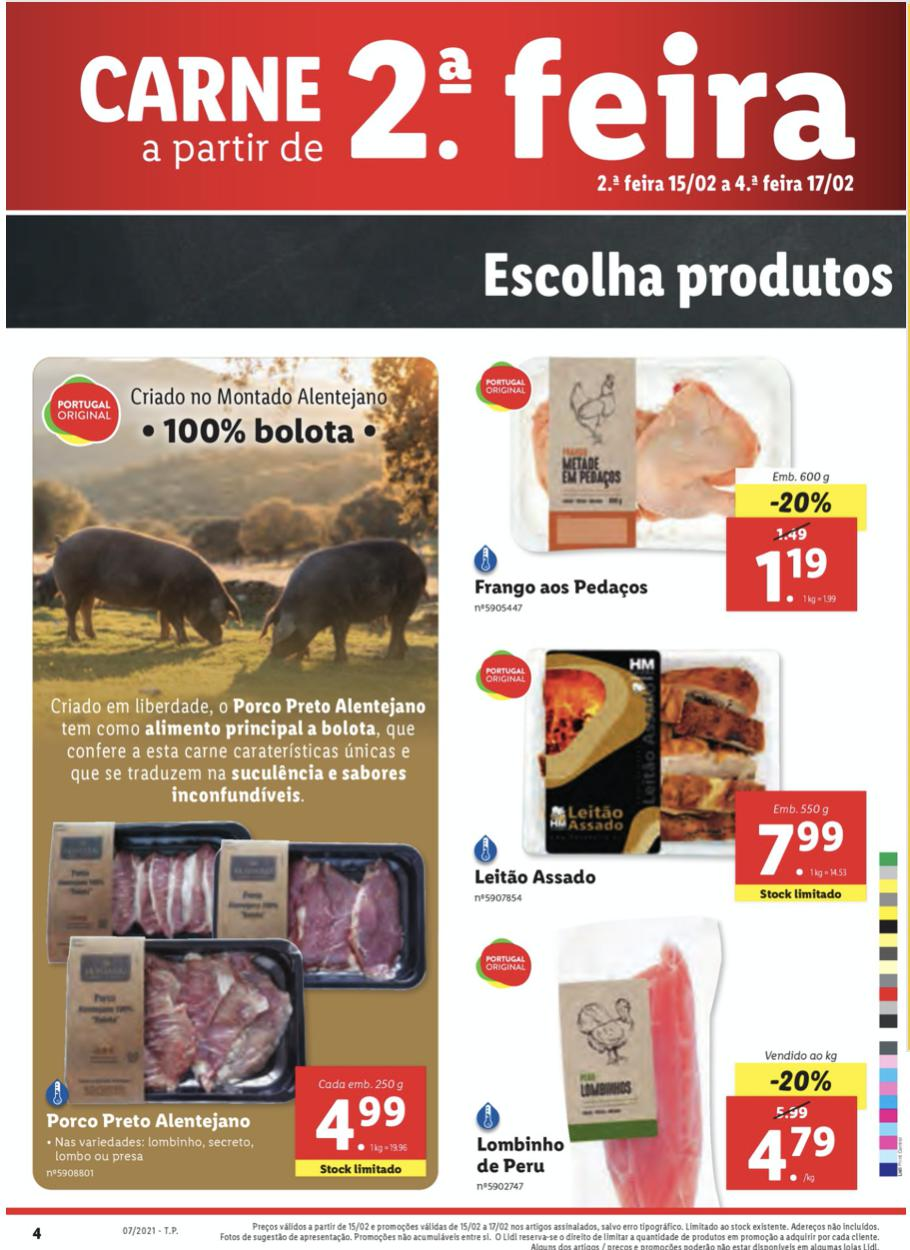name: (39, 1107, 255, 1135), (472, 1130, 567, 1176), (473, 864, 601, 892), (469, 578, 658, 596)
price: (723, 516, 858, 613), (735, 790, 867, 884), (724, 1095, 856, 1187), (298, 1070, 426, 1153)
product: (35, 813, 444, 1187), (455, 343, 873, 632), (464, 643, 876, 920), (465, 932, 871, 1212)
promotion: (738, 483, 863, 516), (733, 1063, 852, 1093)
